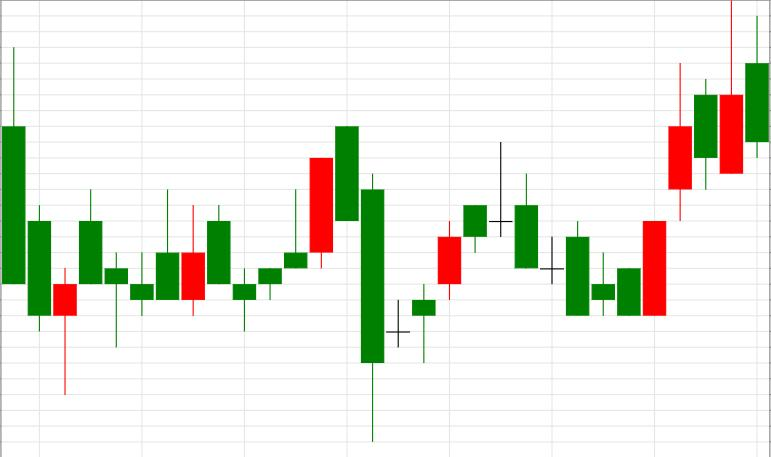bullish_engulfing_rise: (490, 142, 666, 315)
